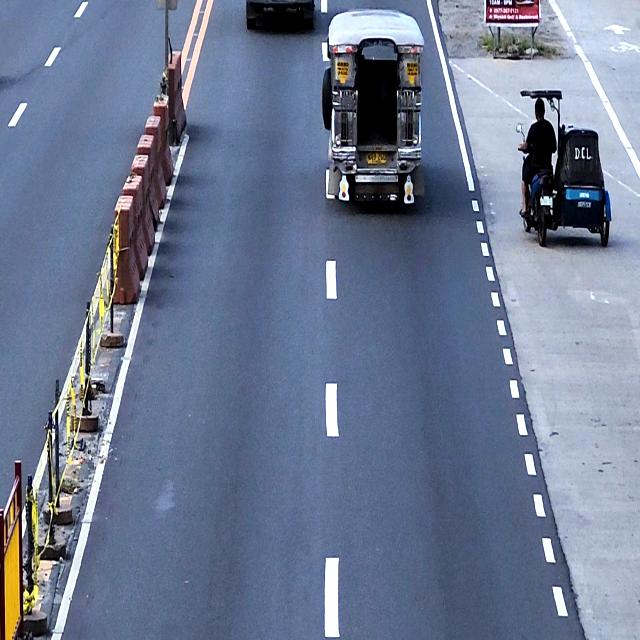Jeep: (321, 8, 425, 206)
License-Plate: (366, 150, 388, 166), (540, 196, 553, 206)
Tricycle: (516, 88, 612, 247)
